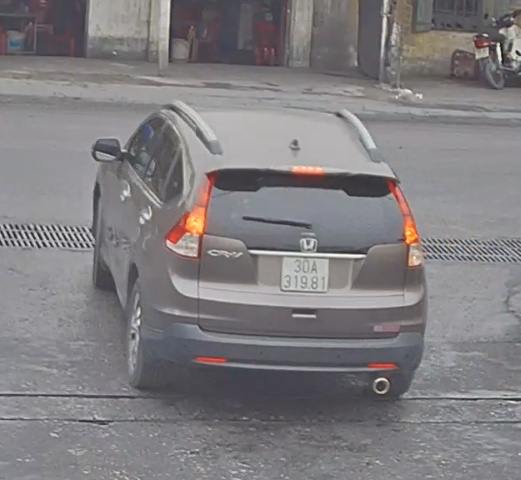vehicle plate: (279, 250, 333, 295)
